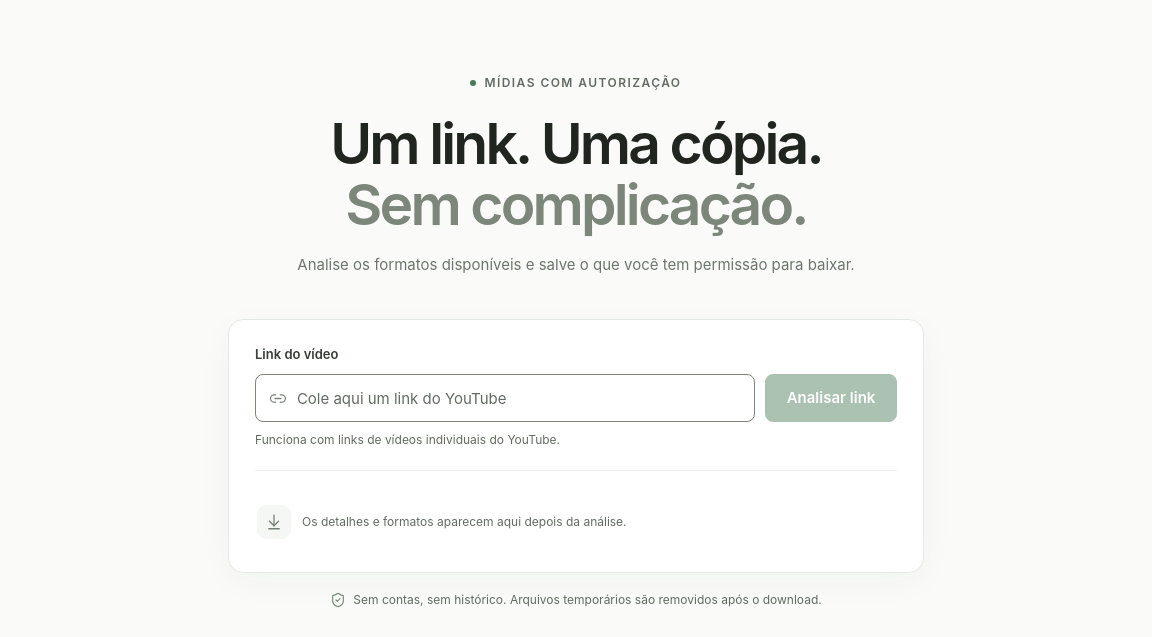
Scenario: Sapo Downloader › inicia o download no formato escolhido após a autorização
In the field labelled "Link do vídeo": (519, 398) [297,375,741,421], type "https://youtu.be/abcdefghijk"
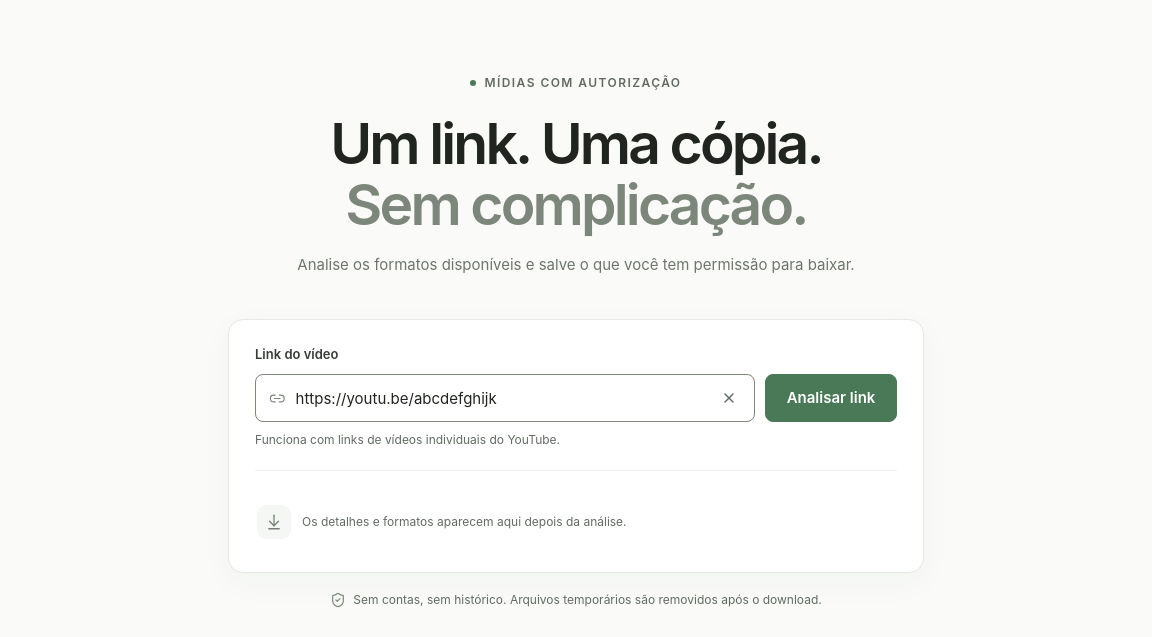
Click the button "Analisar link": (831, 398) [765,374,897,422]
(page scrolled)
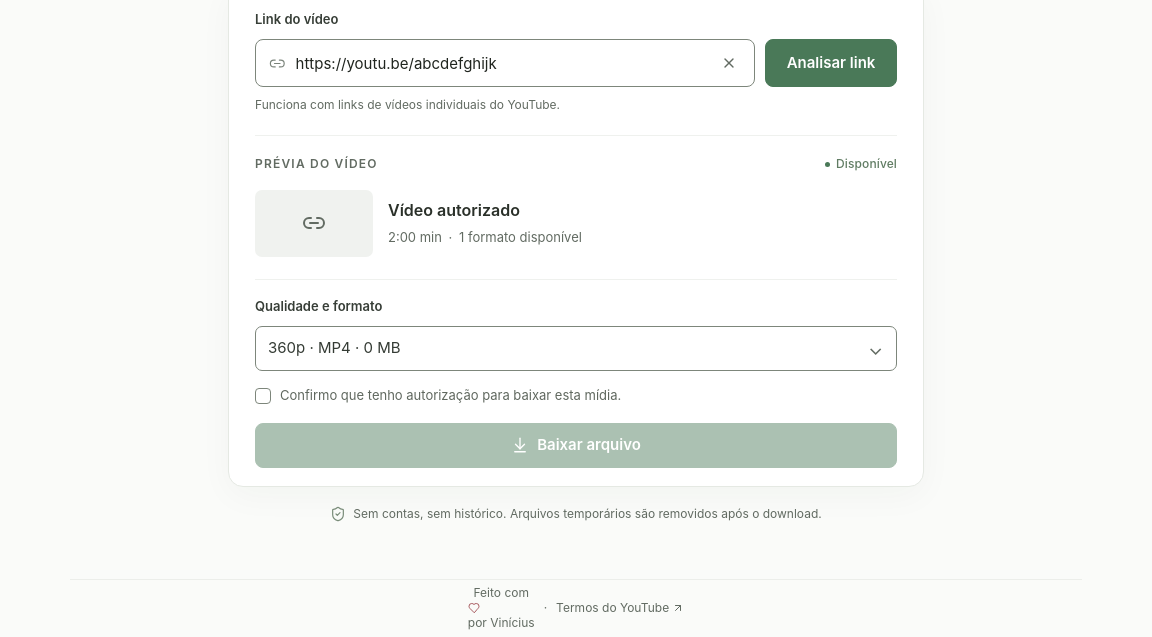
Now the heading "Vídeo autorizado" is shown, box [388,200,520,220]
Click the checkbox labelled "Confirmo que tenho autorização para baixar esta mídia.": (438, 395) [255,387,621,404]
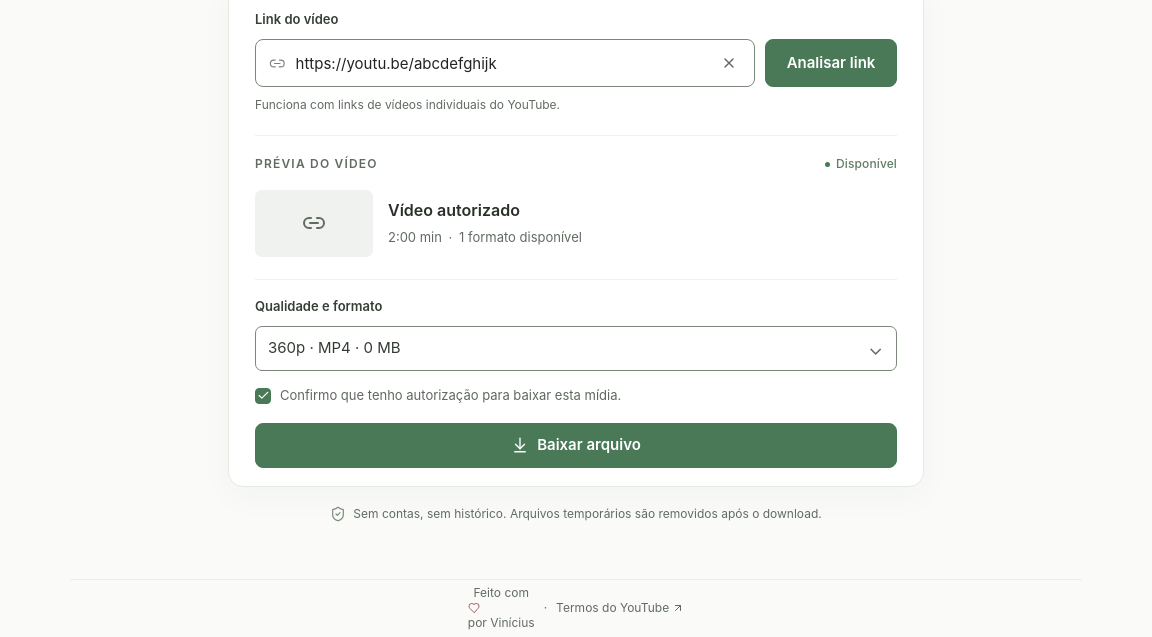
Click the button "Baixar arquivo": (576, 445) [255,422,897,468]
(page scrolled)
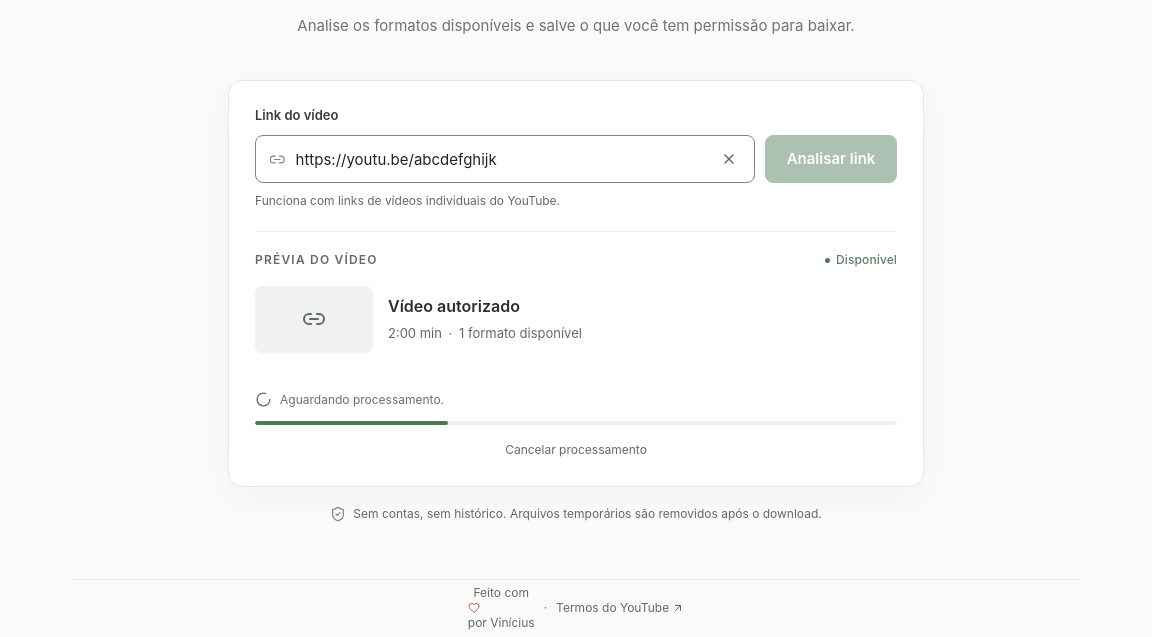
Now the text "Aguardando processamento." is shown, box [280,390,444,408]
